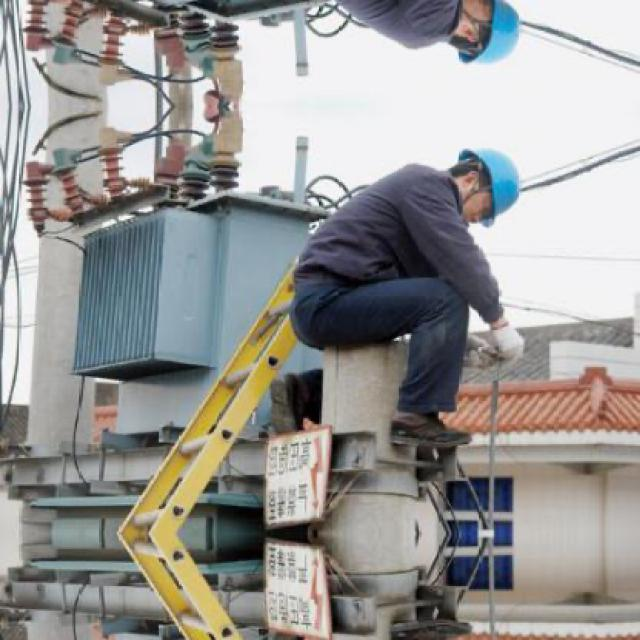helmet: (442, 137, 526, 227), (442, 0, 528, 77)
